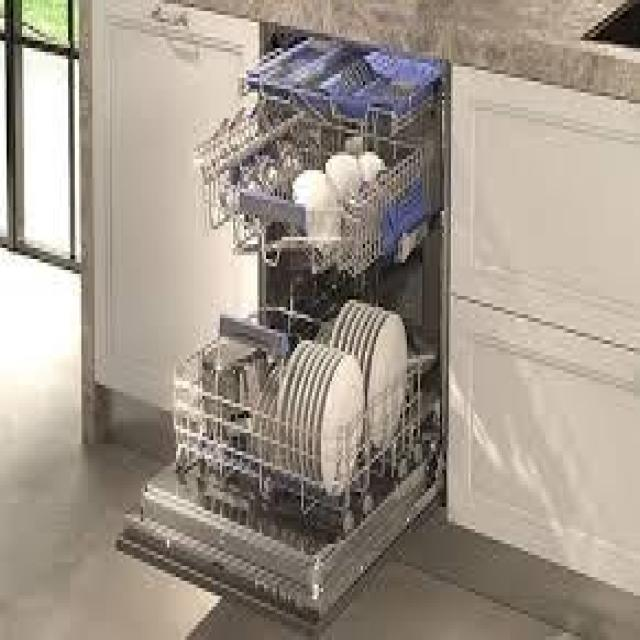dishwasher: (110, 19, 457, 636)
